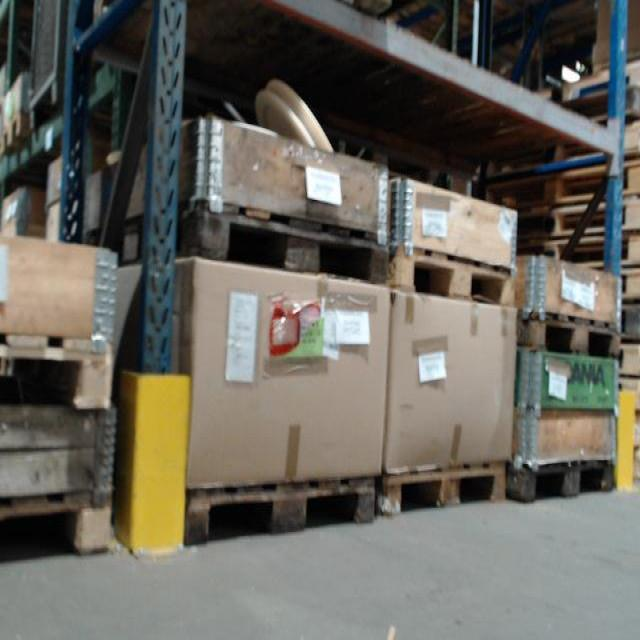pallet: (83, 195, 387, 290), (183, 474, 377, 548), (0, 331, 114, 415), (389, 240, 519, 310), (377, 457, 508, 526), (1, 486, 113, 562), (518, 305, 621, 361), (507, 454, 615, 505), (517, 196, 637, 237), (516, 159, 637, 196), (540, 239, 639, 264), (0, 105, 29, 156), (621, 300, 637, 338), (620, 341, 640, 367), (623, 264, 638, 298)
stillage: (26, 0, 79, 136)
